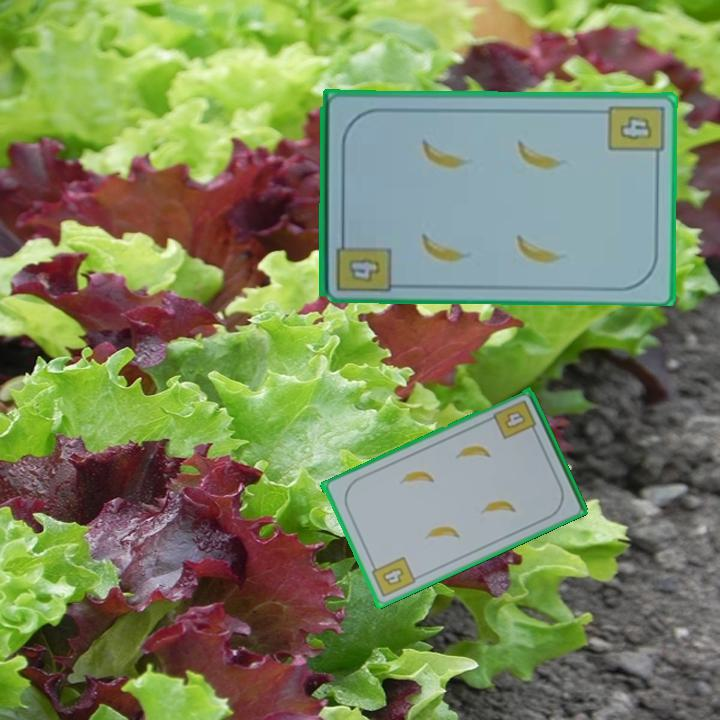4b: (332, 229, 393, 294), (605, 102, 666, 164), (367, 553, 418, 600), (490, 397, 541, 443)
